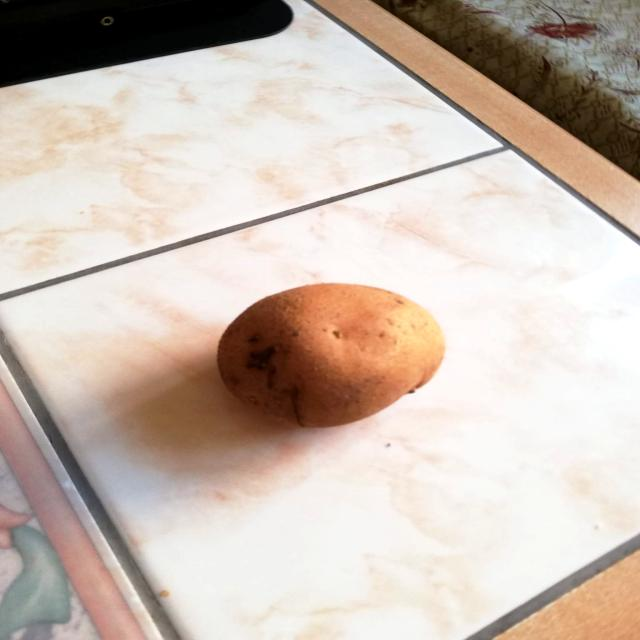potato: (208, 275, 453, 429)
